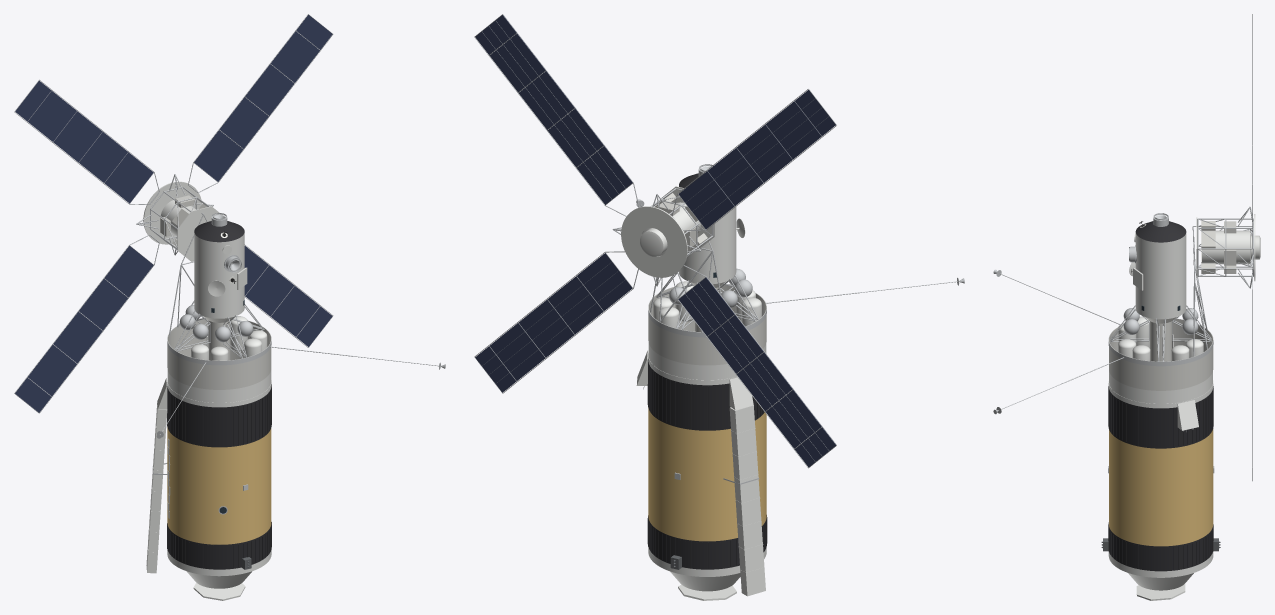
The model's file is workshop.lod1.glb.
3 renders of one model, left to right at view 1: azimuth 30°, elevation 25°; view 2: azimuth 150°, elevation 25°; view 3: azimuth 270°, elevation 25°, orthographic. The views are drawn at different scales.
Visible parts, largest first — view 1: OWS_HabitationWall, OWS_AftSkirtInner, ATM_Wing_3_Cells, ATM_Wing_1_Cells, ATM_Wing_4_Cells, ATM_Wing_2_Cells, FAS_InnerWallAndForwardDome, MDA_EarthObservationKit, ATM_Canister, SAS_Wing1_BeamFairing, AM_Bellows, IU_Skin (+11 smaller); view 2: OWS_HabitationWall, ATM_Wing_1_Cells, ATM_Wing_3_Cells, ATM_Wing_2_Cells, ATM_Wing_4_Cells, OWS_AftSkirtInner, SAS_Wing1_BeamFairing, ATM_Canister, FAS_InnerWallAndForwardDome, MDA_EarthObservationKit, AM_Bellows, FAS_OxygenTanks (+8 smaller); view 3: OWS_HabitationWall, OWS_AftSkirtInner, FAS_InnerWallAndForwardDome, MDA_EarthObservationKit, ATM_Canister, FAS_OxygenTanks, AM_Bellows, IU_Skin, ATM_Outriggers, OWS_SkirtBands, OWS_RefrigerationRadiator, ATM_RackEquipment (+6 smaller).
Part boxes in pixels (left/top/right/bottom): OWS_HabitationWall: left=167, top=427, right=271, bottom=544; OWS_AftSkirtInner: left=167, top=384, right=271, bottom=569; ATM_Wing_3_Cells: left=15, top=246, right=153, bottom=412; ATM_Wing_1_Cells: left=194, top=15, right=332, bottom=181; ATM_Wing_4_Cells: left=15, top=80, right=153, bottom=203; ATM_Wing_2_Cells: left=244, top=246, right=332, bottom=347; FAS_InnerWallAndForwardDome: left=167, top=318, right=271, bottom=389; MDA_EarthObservationKit: left=194, top=233, right=247, bottom=301; ATM_Canister: left=143, top=181, right=221, bottom=261; SAS_Wing1_BeamFairing: left=146, top=403, right=167, bottom=573; AM_Bellows: left=174, top=304, right=264, bottom=358; IU_Skin: left=167, top=370, right=271, bottom=402; OWS_HabitationWall: left=648, top=408, right=766, bottom=541; ATM_Wing_1_Cells: left=475, top=15, right=632, bottom=204; ATM_Wing_3_Cells: left=678, top=277, right=835, bottom=467; ATM_Wing_2_Cells: left=475, top=253, right=632, bottom=392; ATM_Wing_4_Cells: left=678, top=90, right=835, bottom=228; OWS_AftSkirtInner: left=647, top=359, right=767, bottom=569; SAS_Wing1_BeamFairing: left=729, top=405, right=765, bottom=596; ATM_Canister: left=621, top=186, right=714, bottom=277; FAS_InnerWallAndForwardDome: left=648, top=284, right=766, bottom=365; MDA_EarthObservationKit: left=686, top=206, right=745, bottom=265; AM_Bellows: left=656, top=268, right=758, bottom=329; FAS_OxygenTanks: left=653, top=281, right=761, bottom=329; OWS_HabitationWall: left=1109, top=429, right=1213, bottom=546; OWS_AftSkirtInner: left=1108, top=386, right=1213, bottom=571; FAS_InnerWallAndForwardDome: left=1109, top=318, right=1213, bottom=390; MDA_EarthObservationKit: left=1129, top=233, right=1186, bottom=302; ATM_Canister: left=1196, top=214, right=1260, bottom=281; FAS_OxygenTanks: left=1118, top=316, right=1203, bottom=360; AM_Bellows: left=1110, top=305, right=1211, bottom=361; IU_Skin: left=1108, top=371, right=1213, bottom=403; ATM_Outriggers: left=1197, top=206, right=1253, bottom=288; OWS_SkirtBands: left=1108, top=383, right=1213, bottom=577; OWS_RefrigerationRadiator: left=1128, top=573, right=1193, bottom=600; ATM_RackEquipment: left=1201, top=221, right=1236, bottom=273.
Size of the model in its own units: 23.4 by 35.71 by 16.89.
